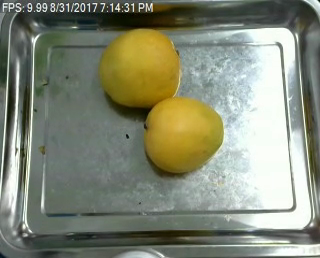Mango: (101, 28, 181, 108), (143, 97, 226, 174)
